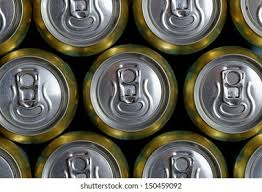can: (84, 46, 179, 139), (183, 46, 261, 141), (0, 48, 77, 142), (33, 0, 130, 58), (132, 0, 228, 54), (133, 132, 226, 177), (34, 132, 128, 176), (0, 0, 31, 54), (229, 0, 261, 48), (0, 138, 29, 176), (234, 137, 261, 176)
